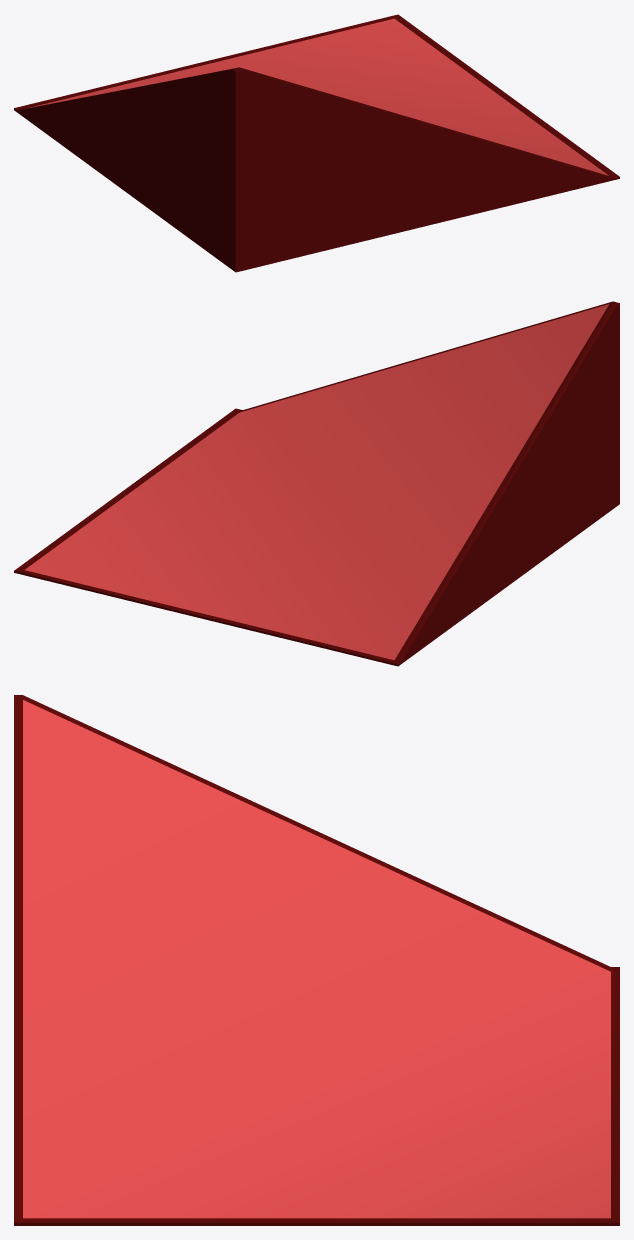
Rendered from Casilla 22.fbx.
3 renders of one model, top to bottom at view 1: azimuth 30°, elevation 25°; view 2: azimuth 150°, elevation 25°; view 3: azimuth 270°, elevation 25°, orthographic. The views are drawn at different scales.
Parts seen in each view (by area): view 1: pCube6; view 2: pCube6; view 3: pCube6.
Boxes of the visible parts, <box> form: pCube6: <box>14,14,619,272</box>; pCube6: <box>14,301,619,666</box>; pCube6: <box>14,695,619,1225</box>.
Bounding box in the file's own units: 200 × 100 × 200.
